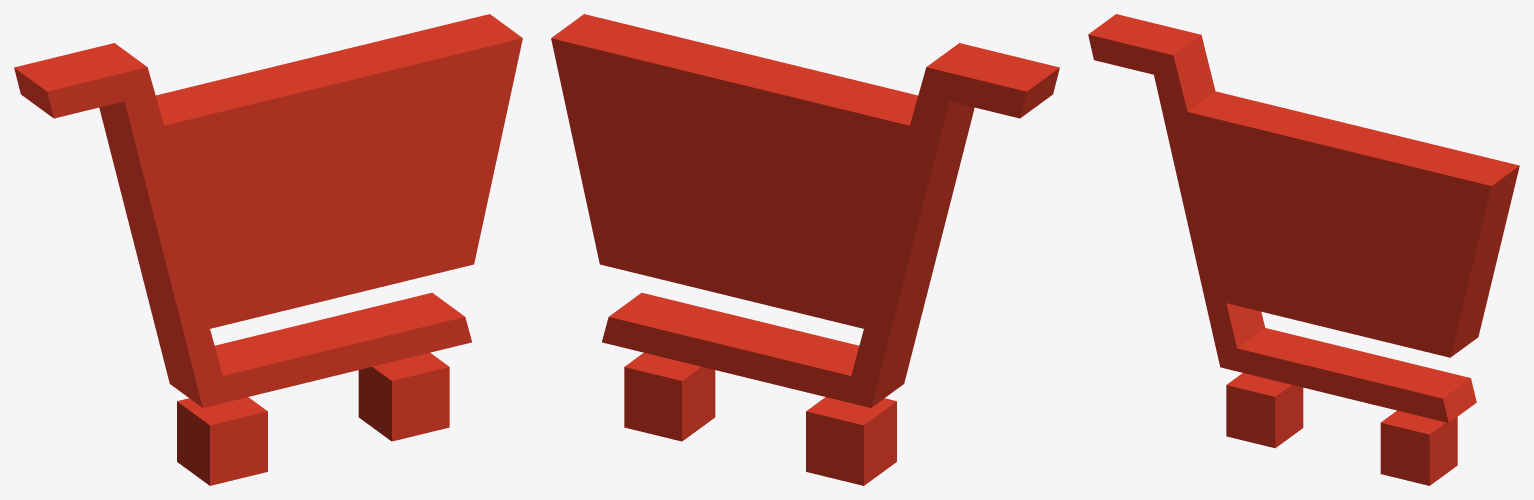
The model's file is Icon_Trolley_01.fbx.
3 views of the same model, side by side, from view 1: azimuth 30°, elevation 25°; view 2: azimuth 150°, elevation 25°; view 3: azimuth 330°, elevation 25° (orthographic). The views are drawn at different scales.
Visible parts, largest first — view 1: Icon_Trolley_01; view 2: Icon_Trolley_01; view 3: Icon_Trolley_01.
Boxes of the visible parts, x1=… form: Icon_Trolley_01: x1=14, y1=14, x2=522, y2=485; Icon_Trolley_01: x1=551, y1=14, x2=1059, y2=485; Icon_Trolley_01: x1=1088, y1=14, x2=1519, y2=485.
Size of the model in its own units: 81.4 by 70.94 by 9.8.
